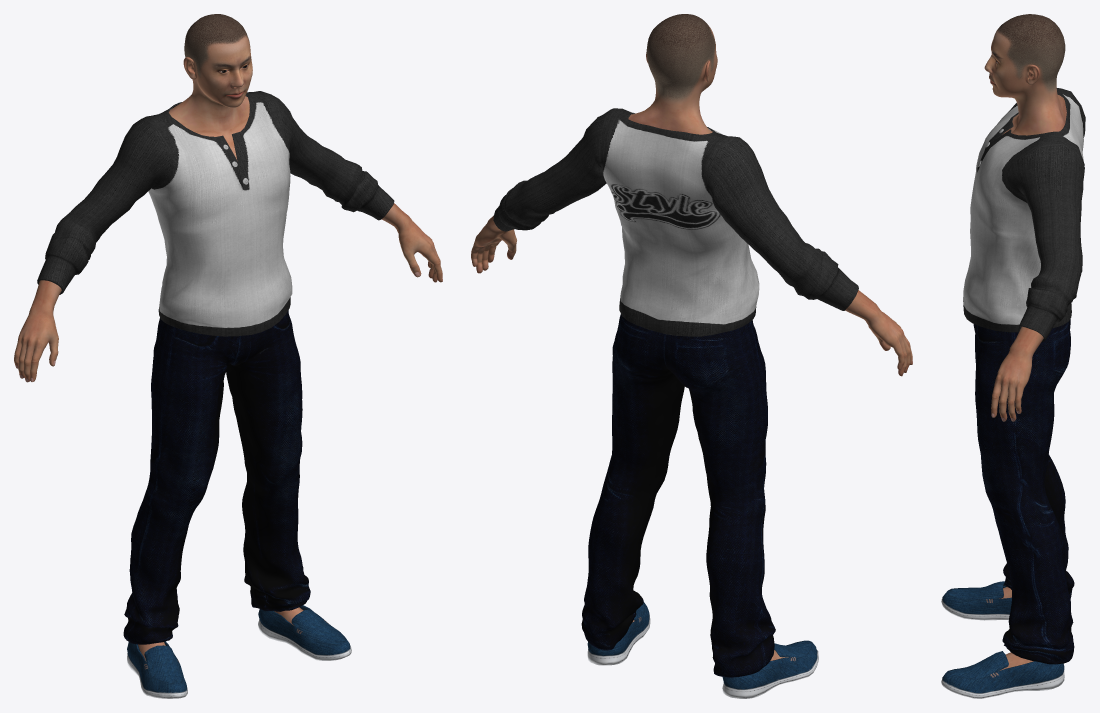
Rendered from man.fbx.
3 renders of one model, left to right at view 1: azimuth 30°, elevation 25°; view 2: azimuth 150°, elevation 25°; view 3: azimuth 270°, elevation 25°, orthographic. The views are drawn at different scales.
Parts seen in each view (by area): view 1: man; view 2: man; view 3: man.
Boxes of the visible parts, <box> form: man: <box>14,14,442,698</box>; man: <box>471,14,912,698</box>; man: <box>941,14,1085,698</box>.
Size of the model in its own units: 12526 by 18107 by 3735.
Materials: 20 (20 with a texture image).
